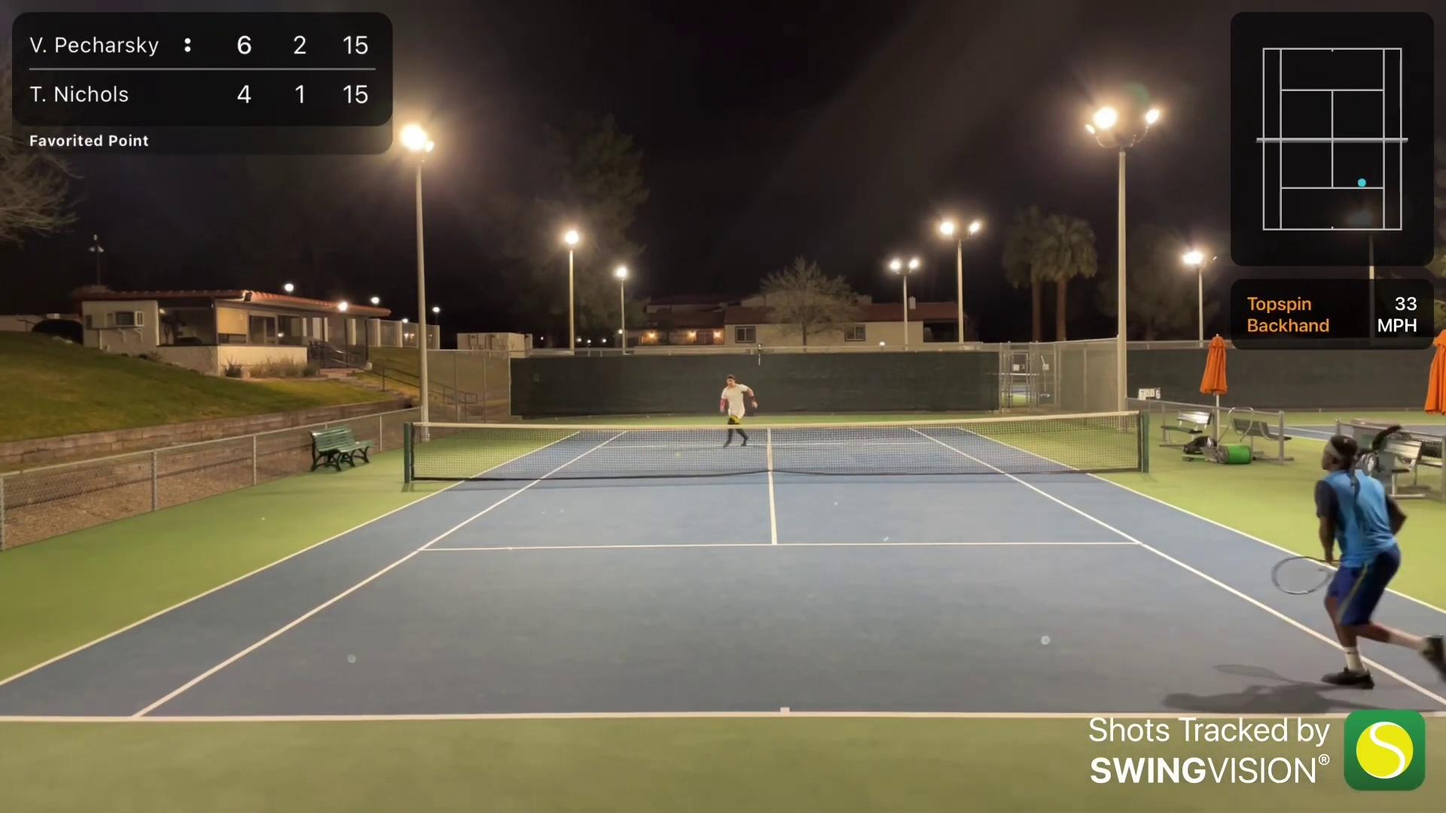ball: (675, 452, 680, 457)
